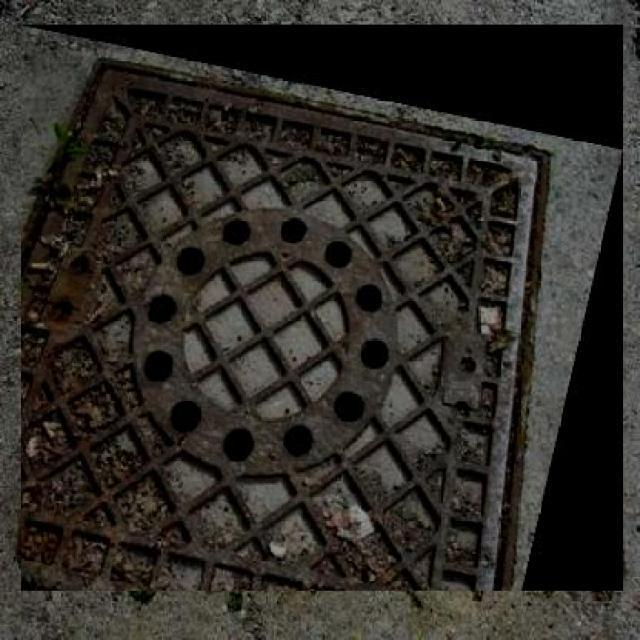Manhole: (20, 26, 623, 592)
